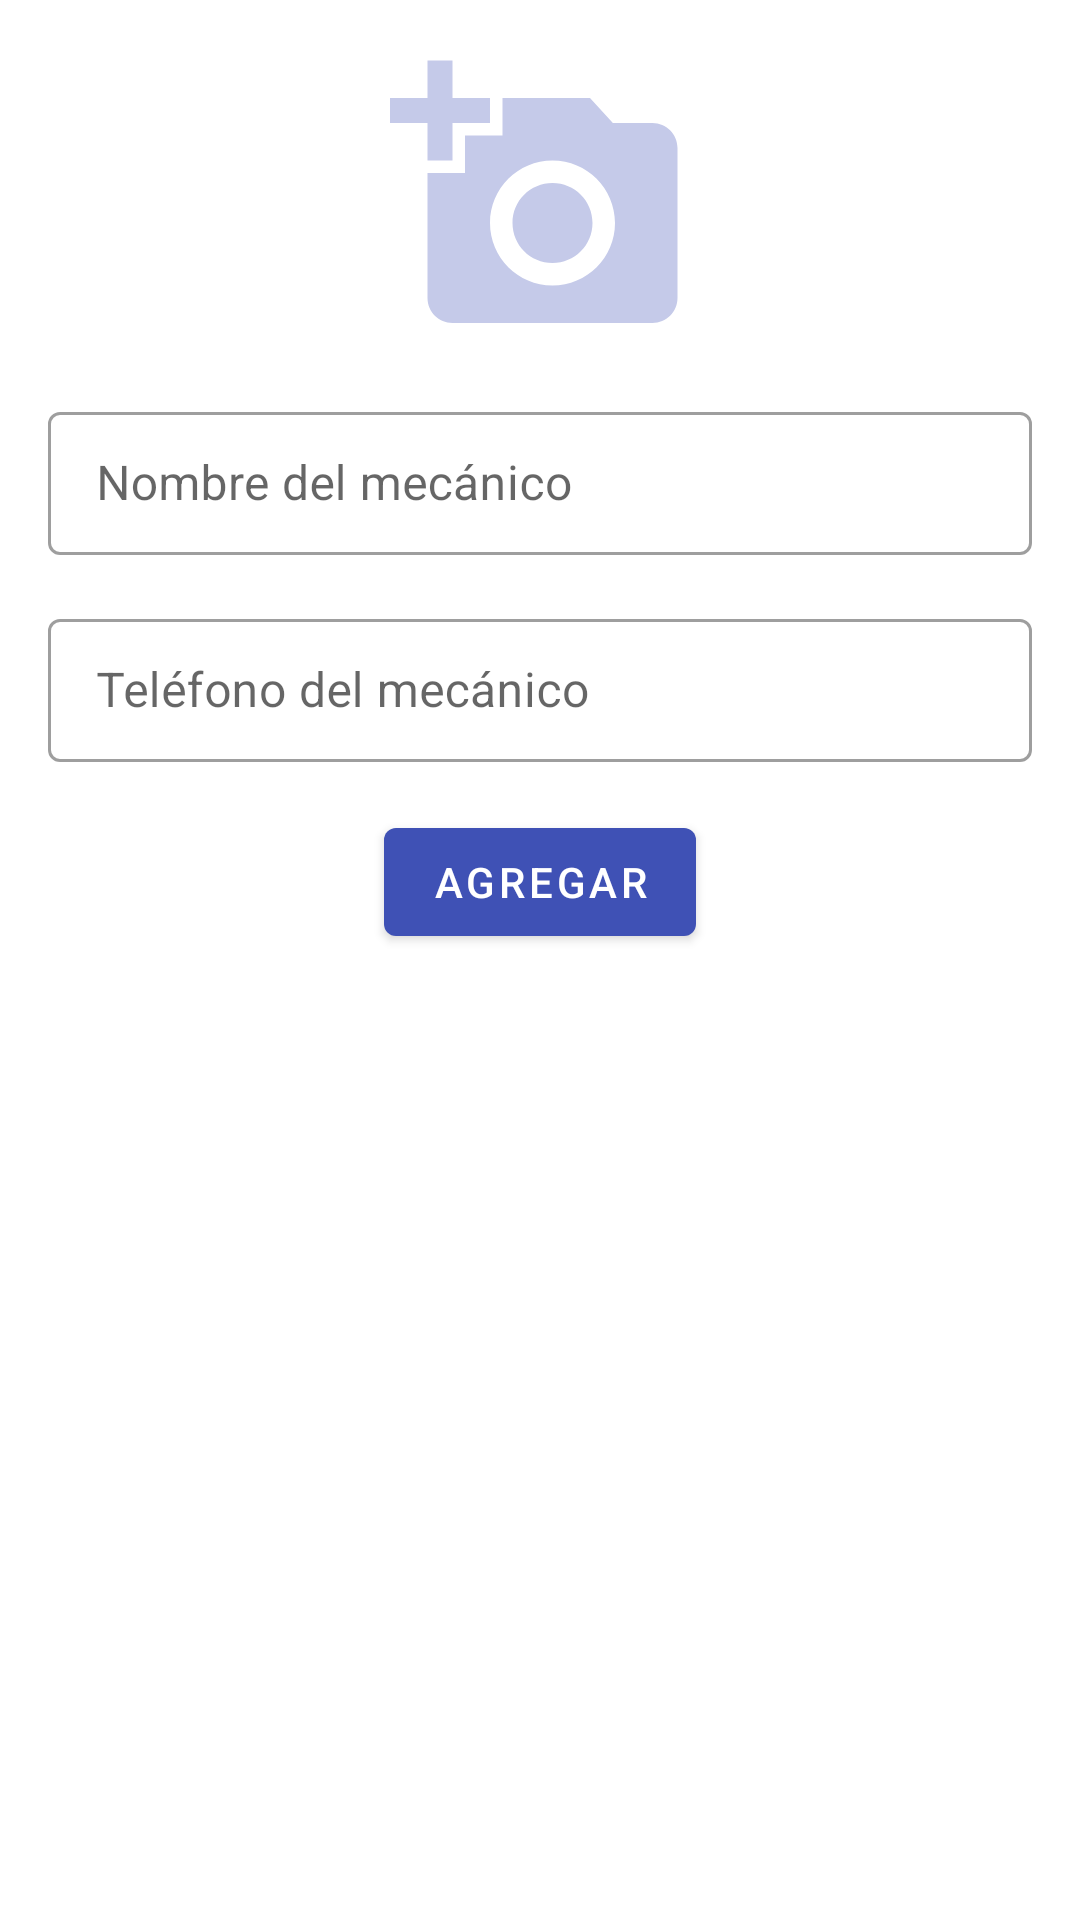

Screen size 1080x1920. Icon name, then its center in pixels as (x=x, y=y):
add photo: (x=534, y=191)
